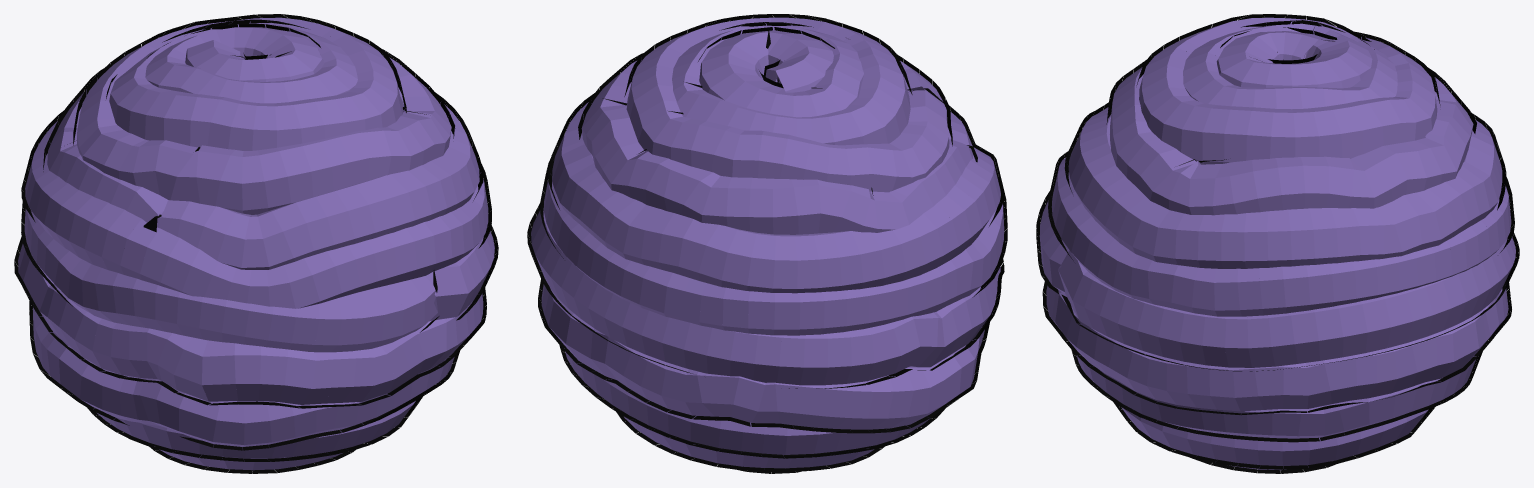
Rendered from PlayerYarn_3.fbx.
3 views of the same model, side by side, from view 1: azimuth 30°, elevation 25°; view 2: azimuth 150°, elevation 25°; view 3: azimuth 270°, elevation 25° (orthographic).
Visible parts, largest first — view 1: Cylinder.001; view 2: Cylinder.001; view 3: Cylinder.001.
Boxes of the visible parts, x1,y1,x2,y2 form: Cylinder.001: [14, 14, 498, 473]; Cylinder.001: [527, 14, 1007, 473]; Cylinder.001: [1036, 14, 1519, 473].
Bounding box in the file's own units: 252 × 237 × 255.
